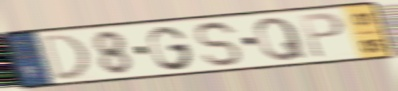8: (91, 28, 135, 77)
D: (39, 31, 92, 83)
G: (146, 25, 196, 72)
P: (297, 10, 347, 61)
Q: (253, 15, 310, 63)
S: (193, 19, 245, 69)
